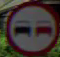No overtake: (5, 3, 55, 52)
